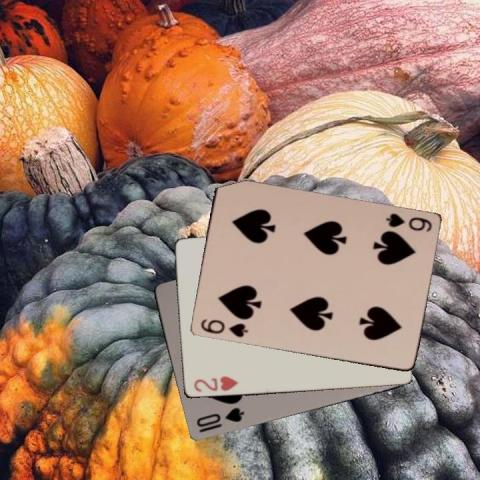10s: (192, 405, 244, 429)
2h: (191, 374, 238, 394)
6s: (197, 316, 249, 339), (383, 210, 433, 233)
